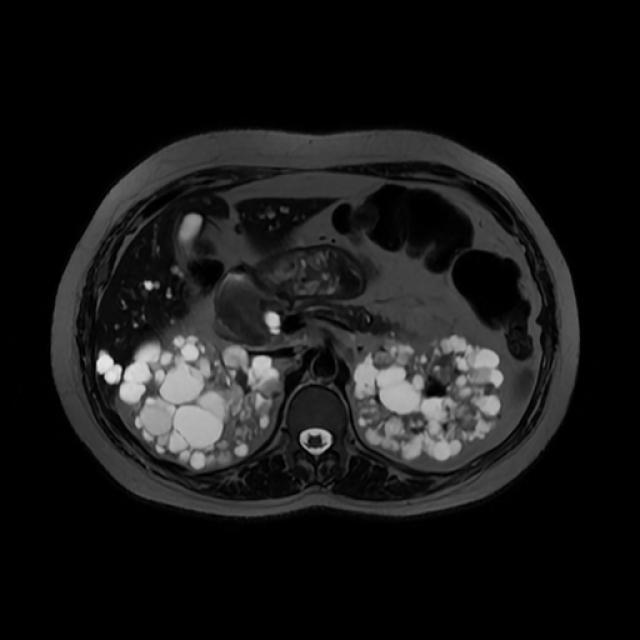sag: (121, 337, 278, 472)
sol: (356, 335, 504, 459)
